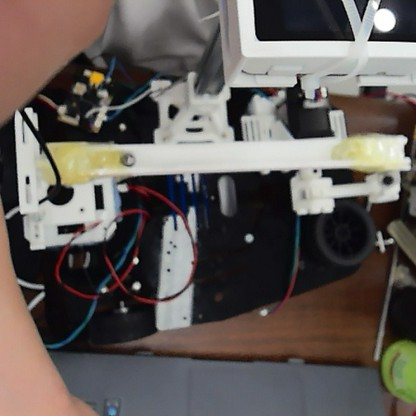ironball: (117, 149, 137, 170)
